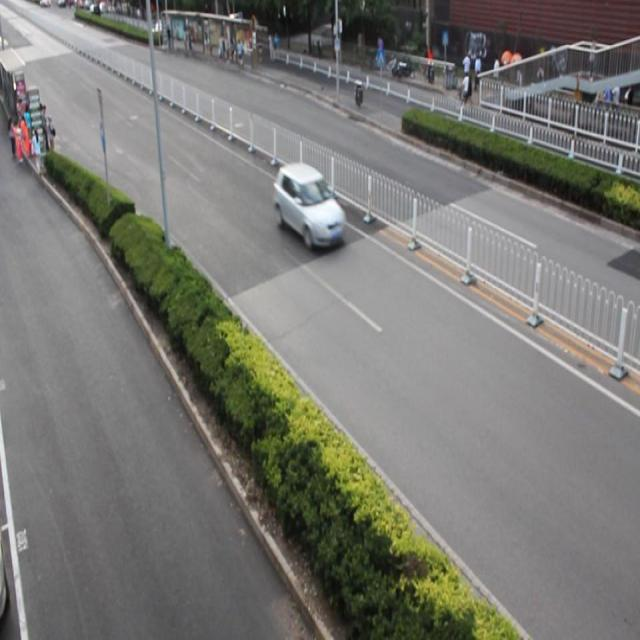car: (273, 159, 345, 251)
